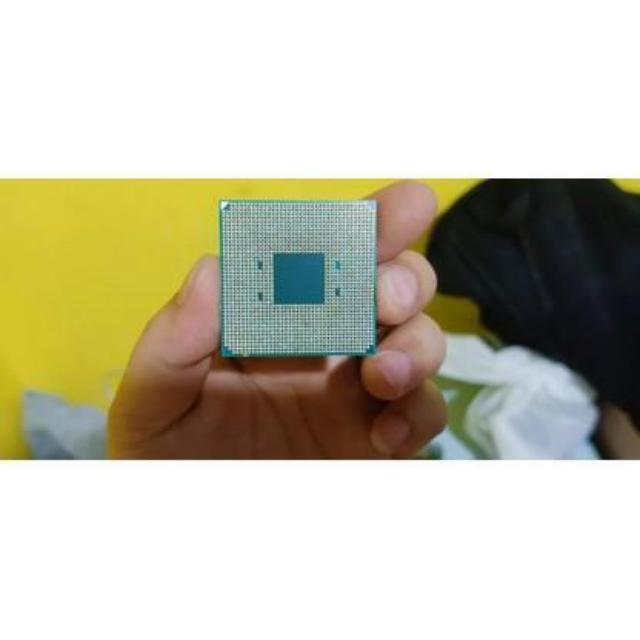CPU: (218, 196, 376, 356)
